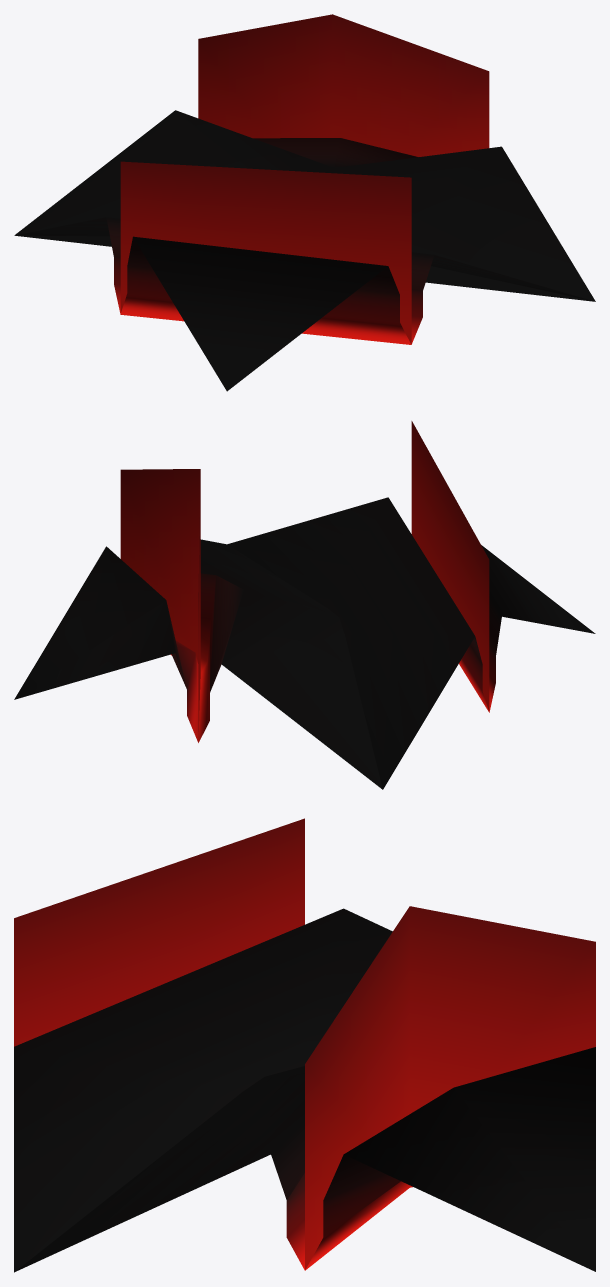
3 renders of one model, top to bottom at view 1: azimuth 30°, elevation 25°; view 2: azimuth 150°, elevation 25°; view 3: azimuth 270°, elevation 25°, orthographic. The views are drawn at different scales.
Visible parts, largest first — view 1: 9267; view 2: 9267; view 3: 9267.
Boxes of the visible parts, x1,y1,x2,y2 form: 9267: (14,14,595,391); 9267: (14,421,595,789); 9267: (14,818,595,1272).
Size of the model in its own units: 1.28 by 0.7003 by 1.28.
